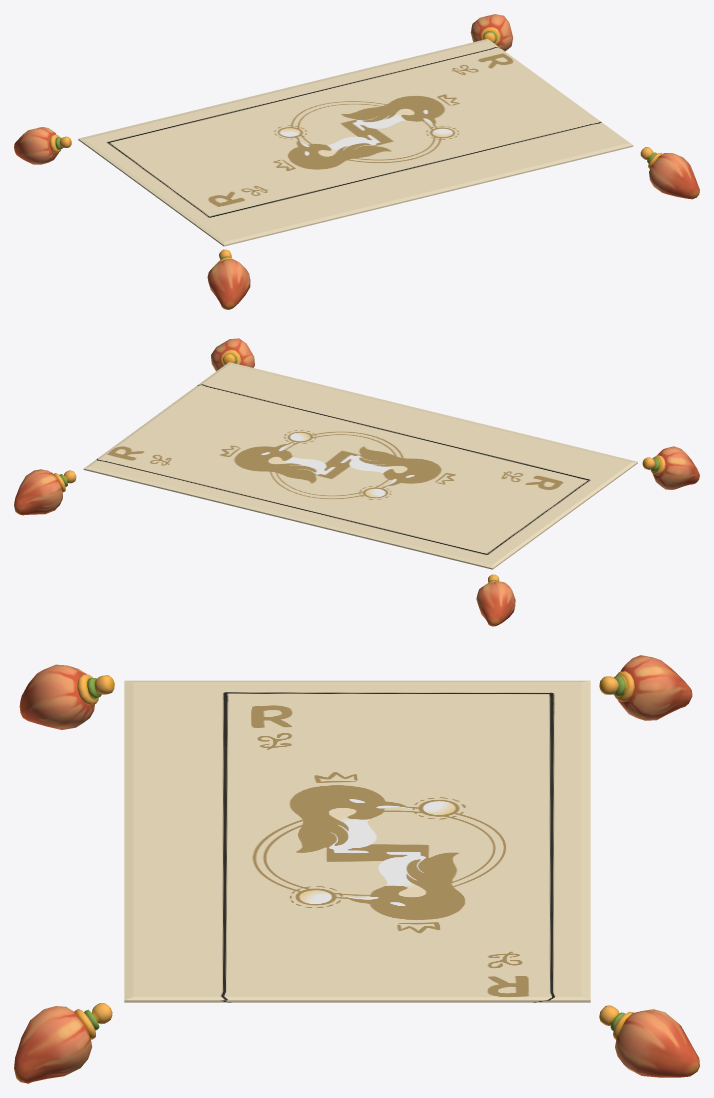
Rendered from ChibiCarpet_mod.fbx.
The picture shows the model from 3 angles, top to bottom: view 1: azimuth 30°, elevation 25°; view 2: azimuth 150°, elevation 25°; view 3: azimuth 270°, elevation 25°; orthographic projection. The views are drawn at different scales.
Visible parts, largest first — view 1: ChibiCarpet, ChibiCarpet_fringe; view 2: ChibiCarpet, ChibiCarpet_fringe; view 3: ChibiCarpet, ChibiCarpet_fringe.
Boxes of the visible parts, x1,y1,x2,y2 form: ChibiCarpet: [78, 39, 633, 246]; ChibiCarpet_fringe: [14, 14, 699, 309]; ChibiCarpet: [83, 362, 637, 569]; ChibiCarpet_fringe: [14, 338, 699, 626]; ChibiCarpet: [124, 680, 590, 1002]; ChibiCarpet_fringe: [14, 655, 699, 1083].
Size of the model in its own units: 1048 by 85.56 by 796.
